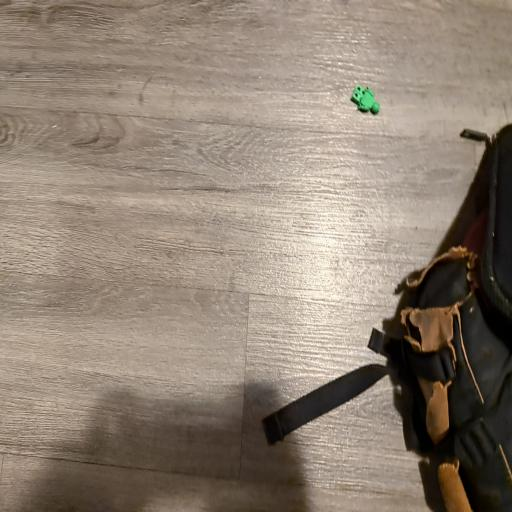Minifig: (351, 85, 380, 114)
